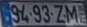3: (41, 4, 51, 24)
4: (20, 4, 29, 23)
9: (9, 3, 20, 24), (32, 4, 42, 23)
M: (64, 4, 79, 23)
Z: (52, 4, 66, 24)
